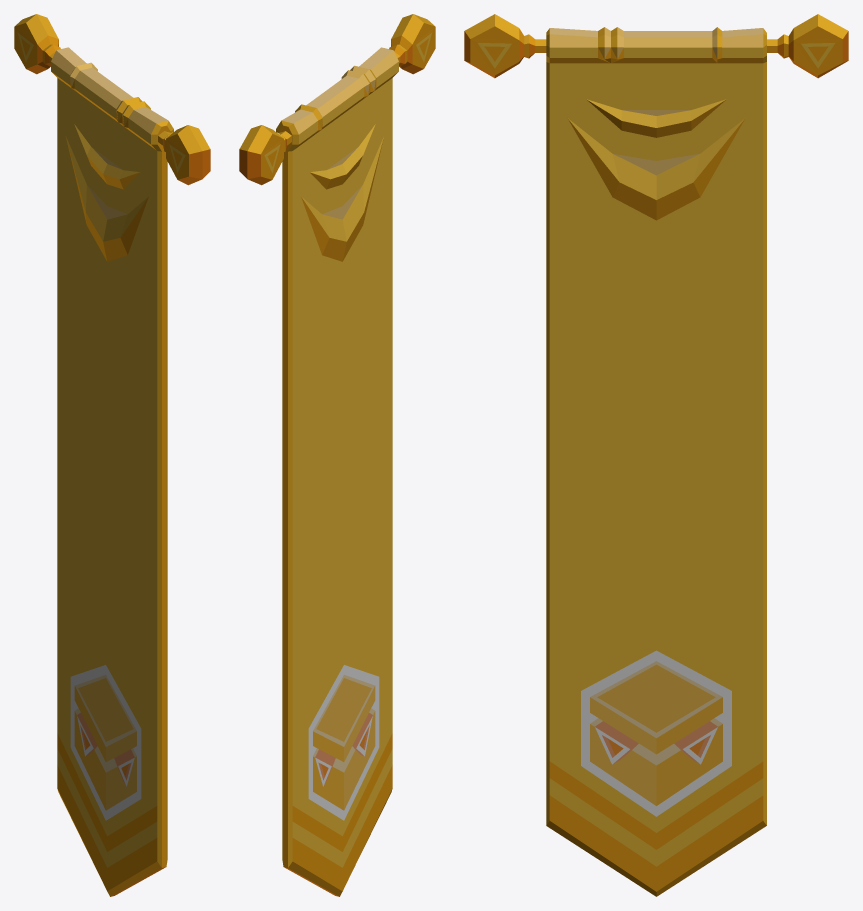
File: Prop_Banner_Bank.fbx
3 renders of one model, left to right at view 1: azimuth 30°, elevation 25°; view 2: azimuth 150°, elevation 25°; view 3: azimuth 270°, elevation 25°, orthographic. The views are drawn at different scales.
Visible parts, largest first — view 1: MODEL_Banner_Bank; view 2: MODEL_Banner_Bank; view 3: MODEL_Banner_Bank.
Part boxes in pixels (box(x1,y1,x2,y2)): MODEL_Banner_Bank: box(14, 14, 210, 896); MODEL_Banner_Bank: box(239, 14, 435, 896); MODEL_Banner_Bank: box(464, 14, 848, 896).
Bounding box in the file's own units: 76.25 × 2158 × 852.
